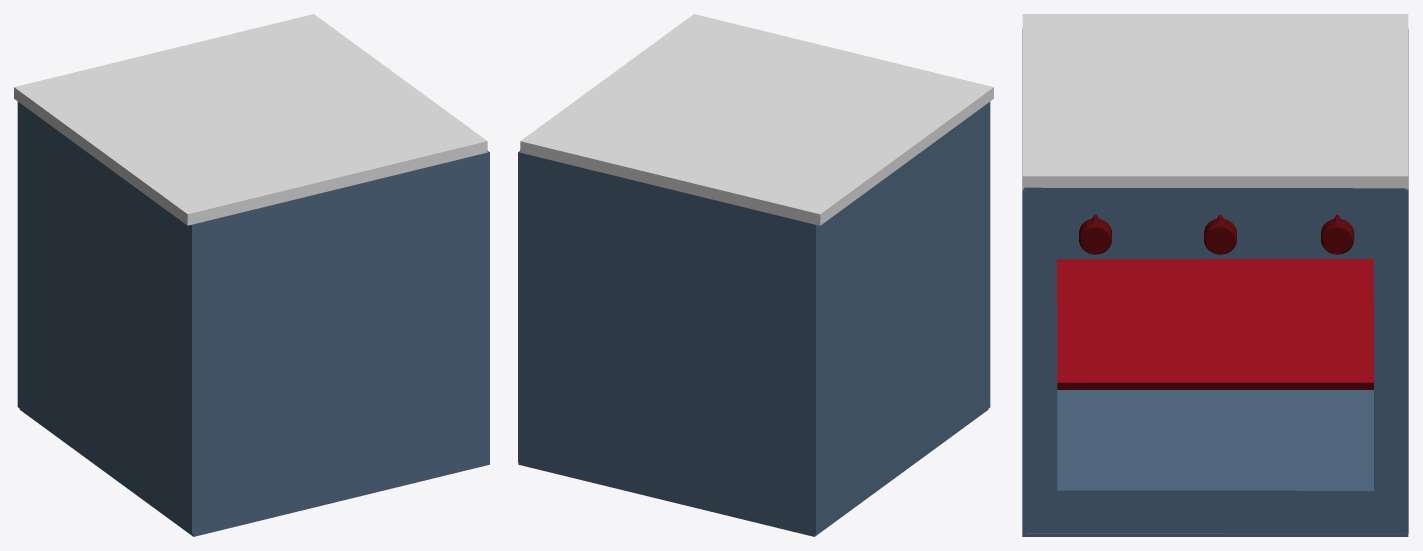
File: oven.fbx
The picture shows the model from 3 angles, left to right: view 1: azimuth 30°, elevation 25°; view 2: azimuth 150°, elevation 25°; view 3: azimuth 270°, elevation 25°; orthographic projection. The views are drawn at different scales.
Visible parts, largest first — view 1: Cube.004, Cube.044; view 2: Cube.004, Cube.044; view 3: Cube.004, Cube.044, Plane.012, Cylinder.012.
Part boxes in pixels (x1,y1,x2,y2): Cube.004: (17,101,489,536); Cube.044: (14,14,487,225); Cube.004: (518,102,990,536); Cube.044: (520,14,993,225); Cube.004: (1022,29,1408,536); Cube.044: (1022,14,1408,188); Plane.012: (1057,259,1373,389); Cylinder.012: (1079,214,1354,254).
Size of the model in its own units: 2683 by 2643 by 2577.
